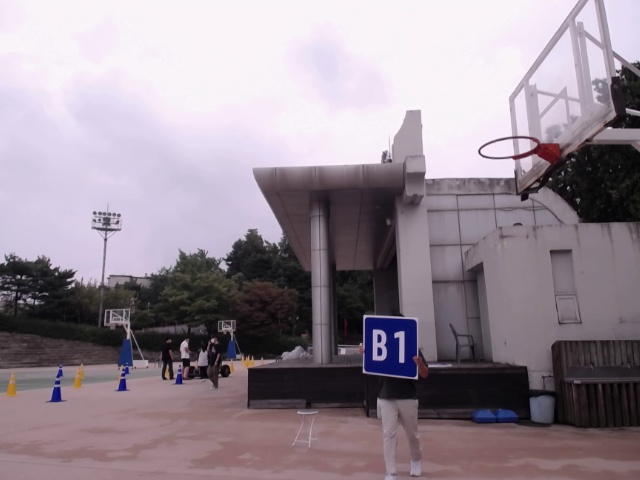delivery_b1: (363, 315, 418, 380)
